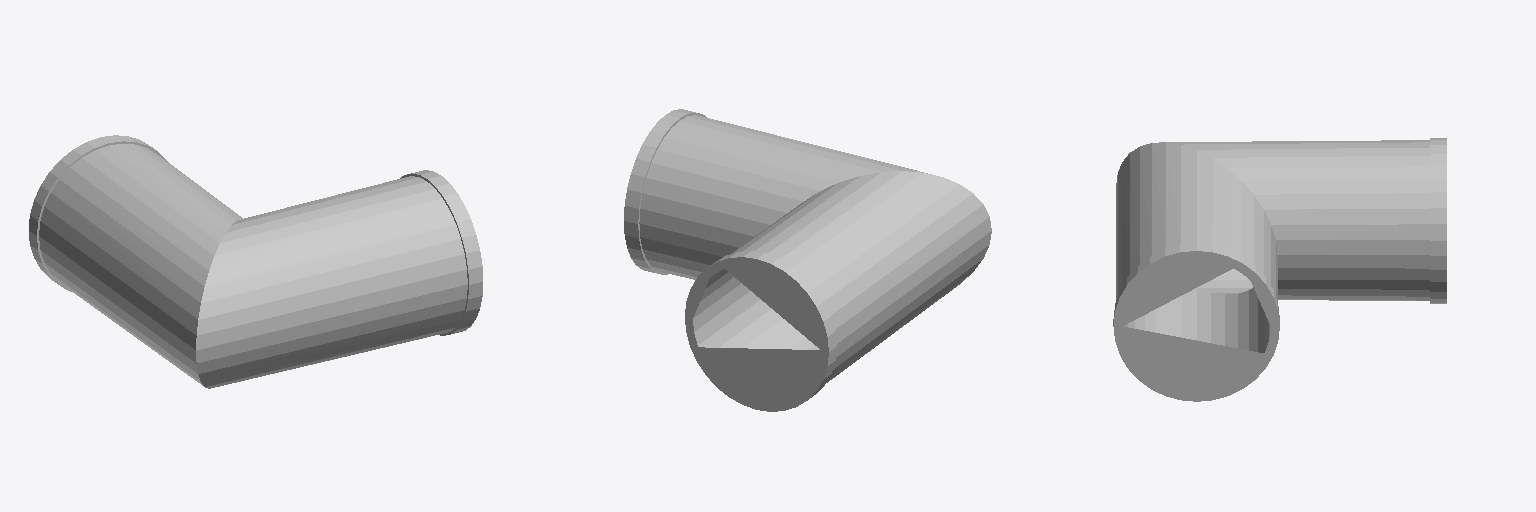
The model's file is LShapePipe.obj.
The picture shows the model from 3 angles: view 1: azimuth 30°, elevation 25°; view 2: azimuth 150°, elevation 25°; view 3: azimuth 270°, elevation 25°; orthographic projection.
Parts seen in each view (by area): view 1: LShapePipe_Cylinder.000; view 2: LShapePipe_Cylinder.000; view 3: LShapePipe_Cylinder.000.
Part boxes in pixels (x1,y1,x2,y2): LShapePipe_Cylinder.000: (29,135,482,388); LShapePipe_Cylinder.000: (624,109,991,411); LShapePipe_Cylinder.000: (1113,138,1446,401).
Bounding box in the file's own units: 2 × 1 × 2.